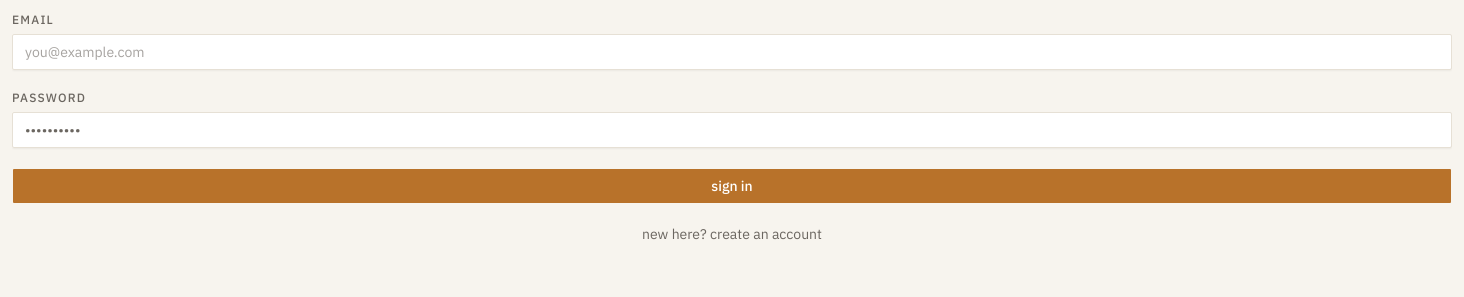
Test case: LoginForm › shows the inline error message when signInWithPassword returns an error
Type "wrong@example.com" into the field labelled "Email" at (732, 52), box x1=12 y1=34 x2=1452 y2=70
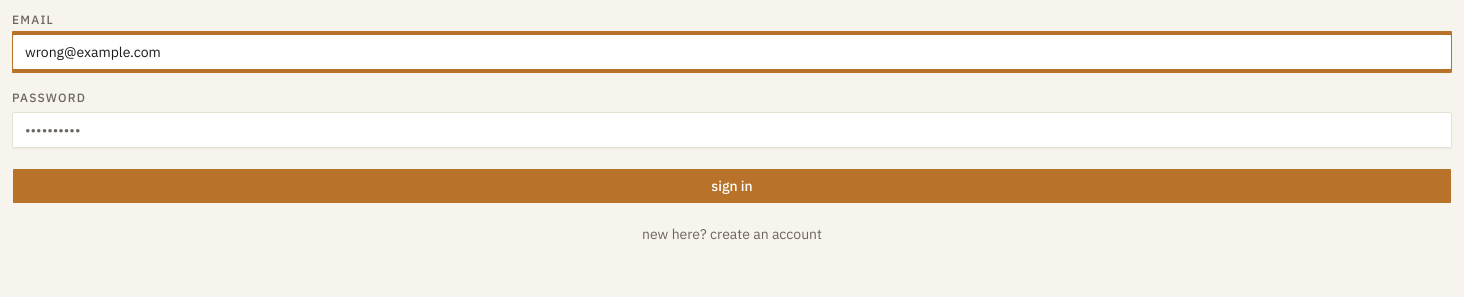
Type "wrongpassword" into the password field labelled "Password" at (732, 130), box x1=12 y1=112 x2=1452 y2=148
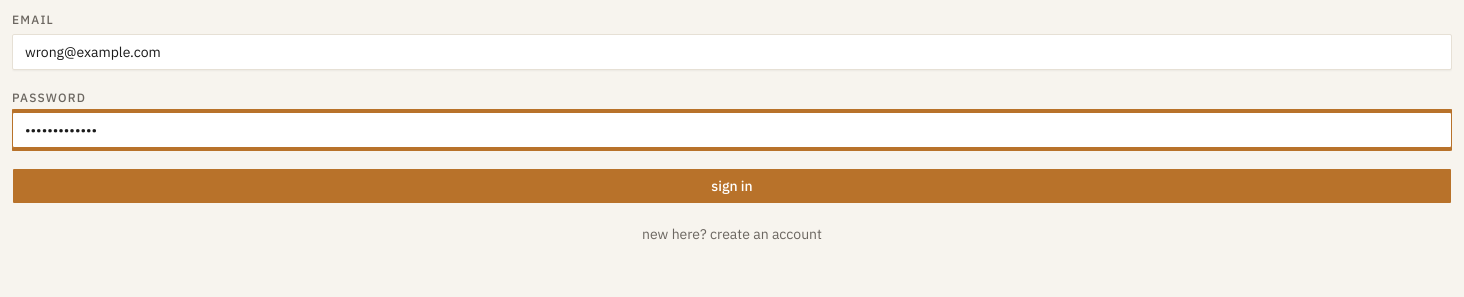
Click the button with test id "login-submit" at (732, 186), box x1=12 y1=168 x2=1452 y2=204
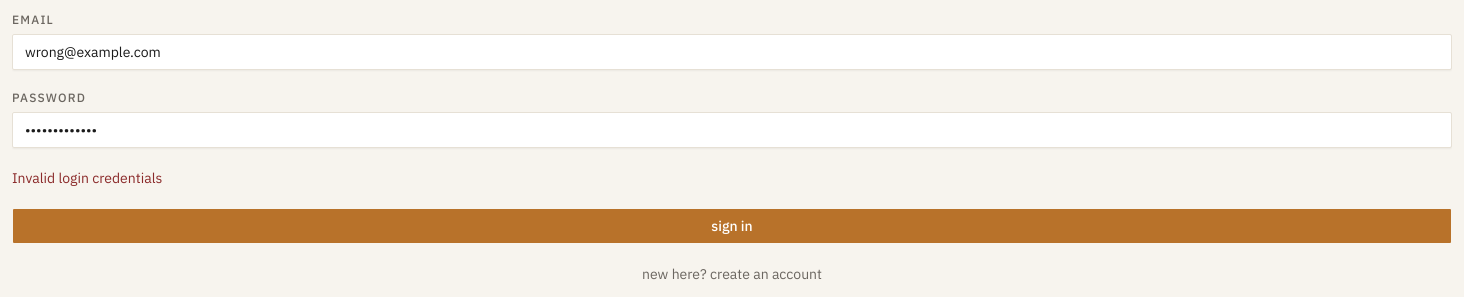
Expected: the message with test id "login-error" reads "Invalid login credentials", x1=12 y1=169 x2=162 y2=187
